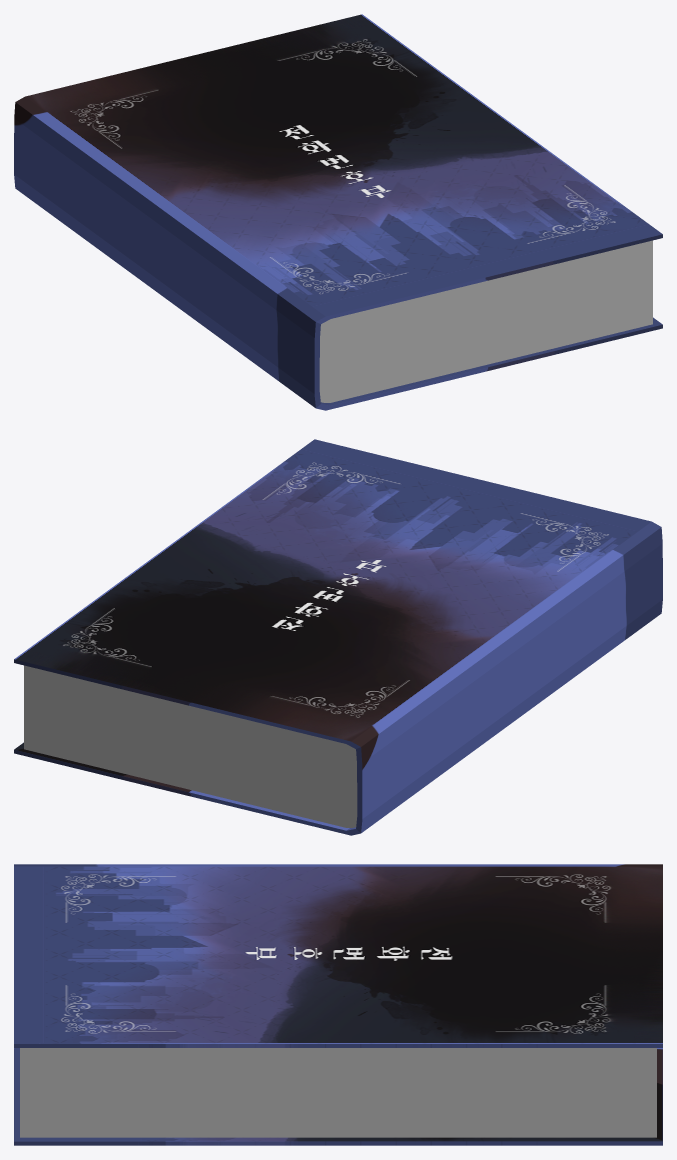
The model's file is book.fbx.
3 renders of one model, top to bottom at view 1: azimuth 30°, elevation 25°; view 2: azimuth 150°, elevation 25°; view 3: azimuth 270°, elevation 25°, orthographic. The views are drawn at different scales.
Parts seen in each view (by area): view 1: book; view 2: book; view 3: book.
Part boxes in pixels (left/top/right/bottom): book: left=14, top=14, right=662, bottom=410; book: left=14, top=439, right=662, bottom=835; book: left=14, top=864, right=662, bottom=1145.
Bounding box in the file's own units: 49.01 × 12.65 × 73.22.
